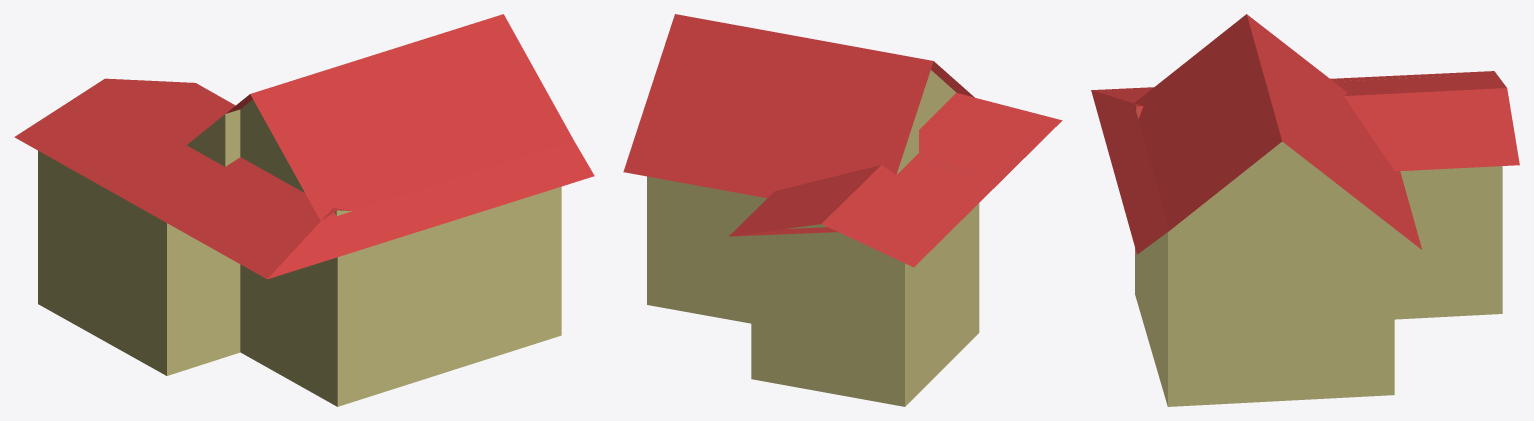
3 renders of one model, left to right at view 1: azimuth 30°, elevation 25°; view 2: azimuth 150°, elevation 25°; view 3: azimuth 270°, elevation 25°, orthographic. The views are drawn at different scales.
Size of the model in its own units: 20.65 by 20.25 by 13.88.
